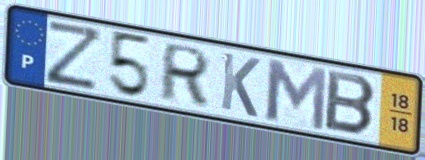5: (105, 29, 155, 100)
B: (322, 67, 379, 138)
K: (218, 49, 263, 120)
M: (264, 55, 330, 134)
R: (156, 41, 214, 108)
Z: (44, 17, 106, 93)
